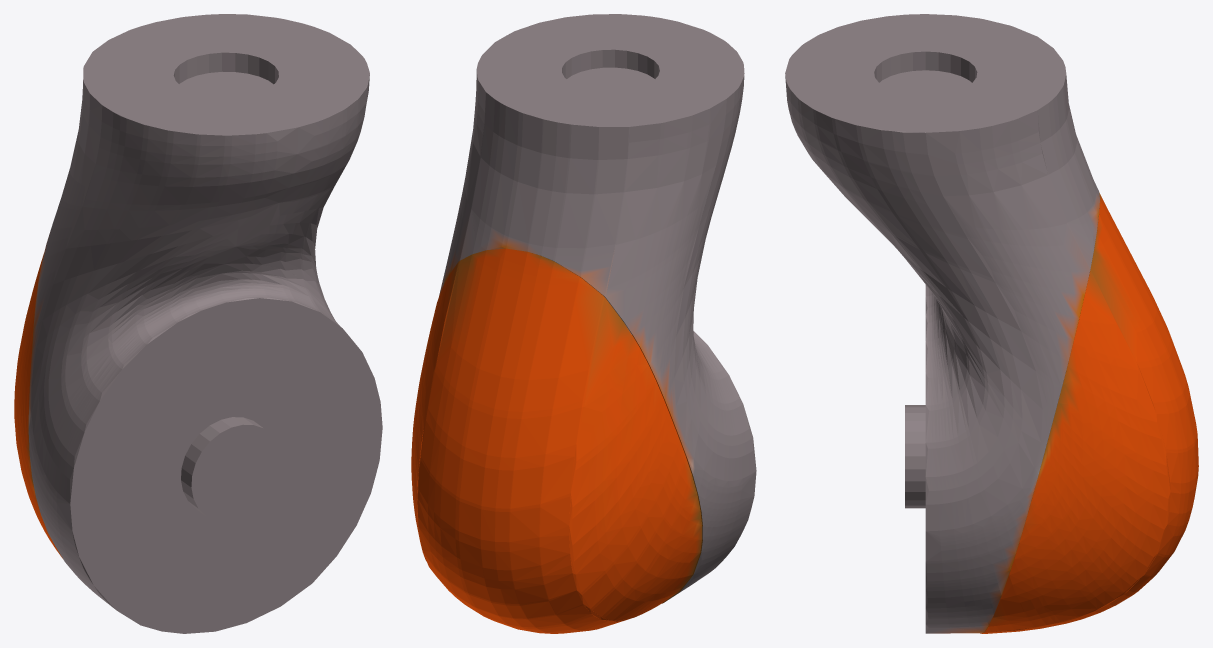
The picture shows the model from 3 angles, left to right: view 1: azimuth 30°, elevation 25°; view 2: azimuth 150°, elevation 25°; view 3: azimuth 270°, elevation 25°; orthographic projection. The views are drawn at different scales.
Parts seen in each view (by area): view 1: link_2; view 2: link_2; view 3: link_2.
Boxes of the visible parts, x1,y1,x2,y2 form: link_2: (14, 14, 382, 633); link_2: (411, 14, 756, 633); link_2: (785, 14, 1198, 633).
Size of the model in its own units: 0.171 by 0.2001 by 0.2898.
